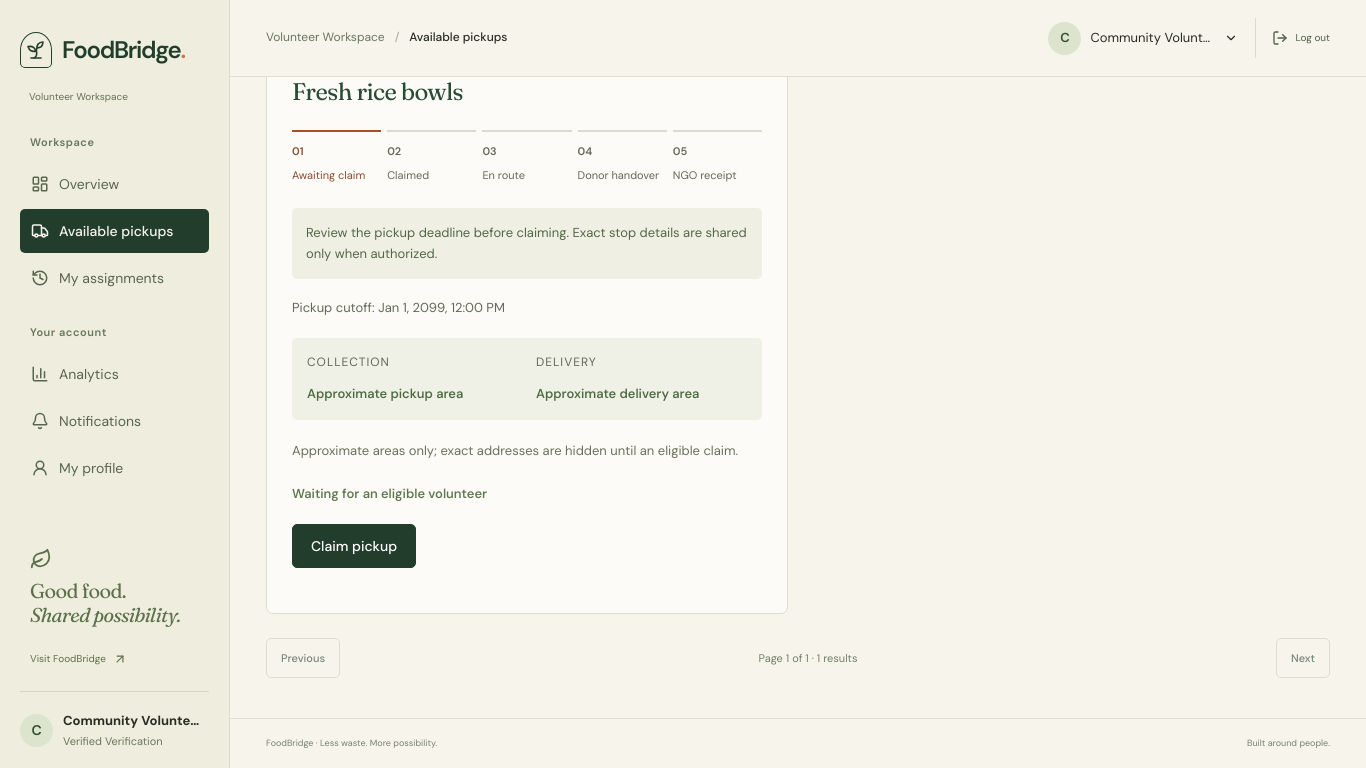
Test case: volunteer logistics and participant tracking › requires confirmation before claiming and loads my assigned status
(page scrolled)
Click the button "Claim pickup".
click(354, 546)  # box 292,524 -> 416,568
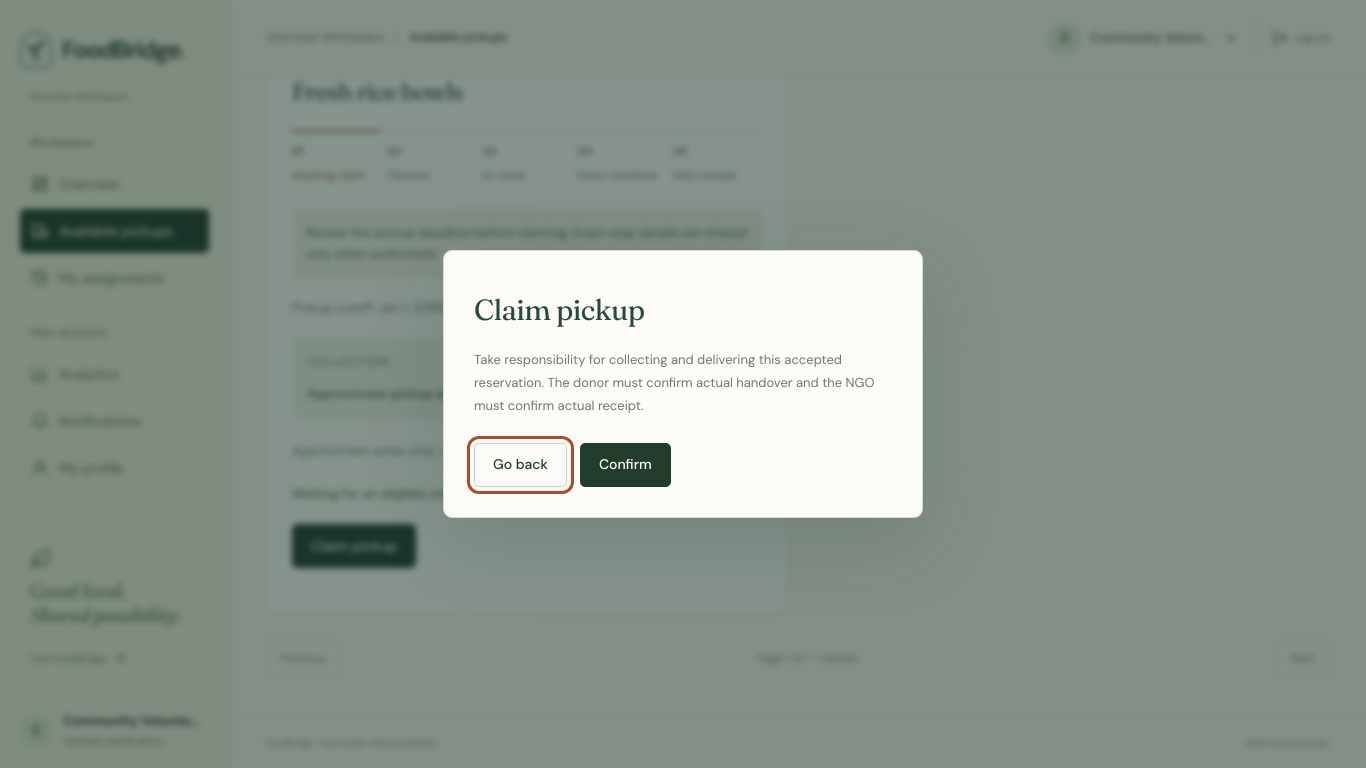
Click the button "Confirm".
click(625, 465)  # box 580,443 -> 671,487
(page scrolled)
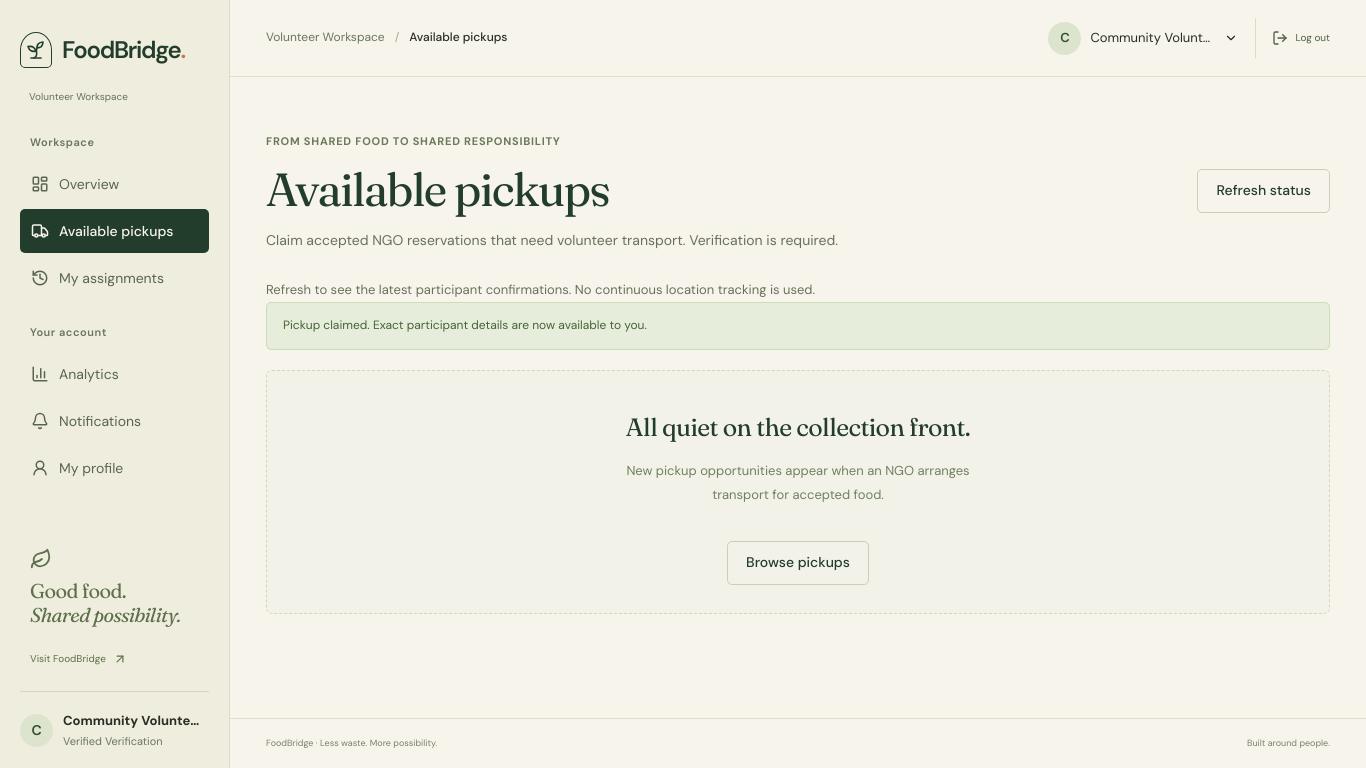
Expected: the heading "All quiet on the collection front." is shown, 626,412 -> 970,442
